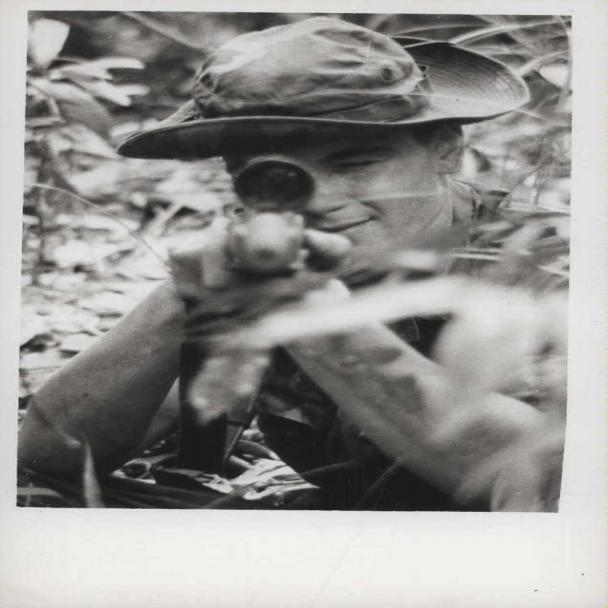Gun: (151, 138, 377, 376)
